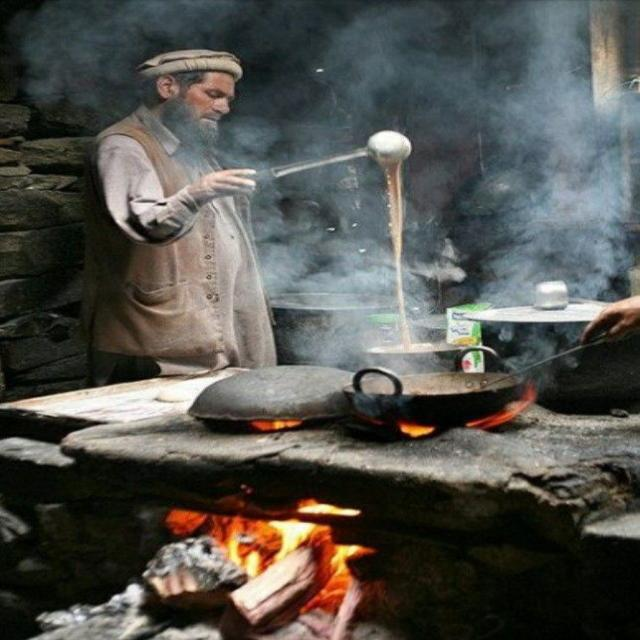fire: (166, 485, 374, 640), (464, 380, 538, 429)
